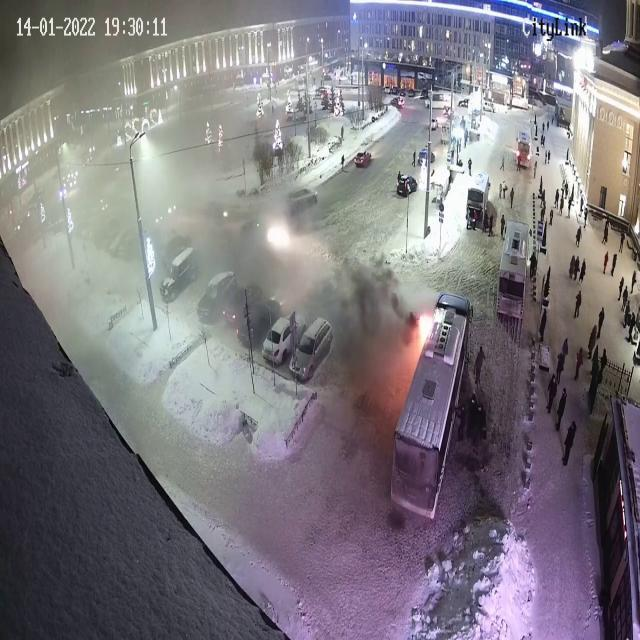Fire: (414, 298, 436, 356)
Smoke: (165, 87, 322, 321), (319, 246, 412, 429)
